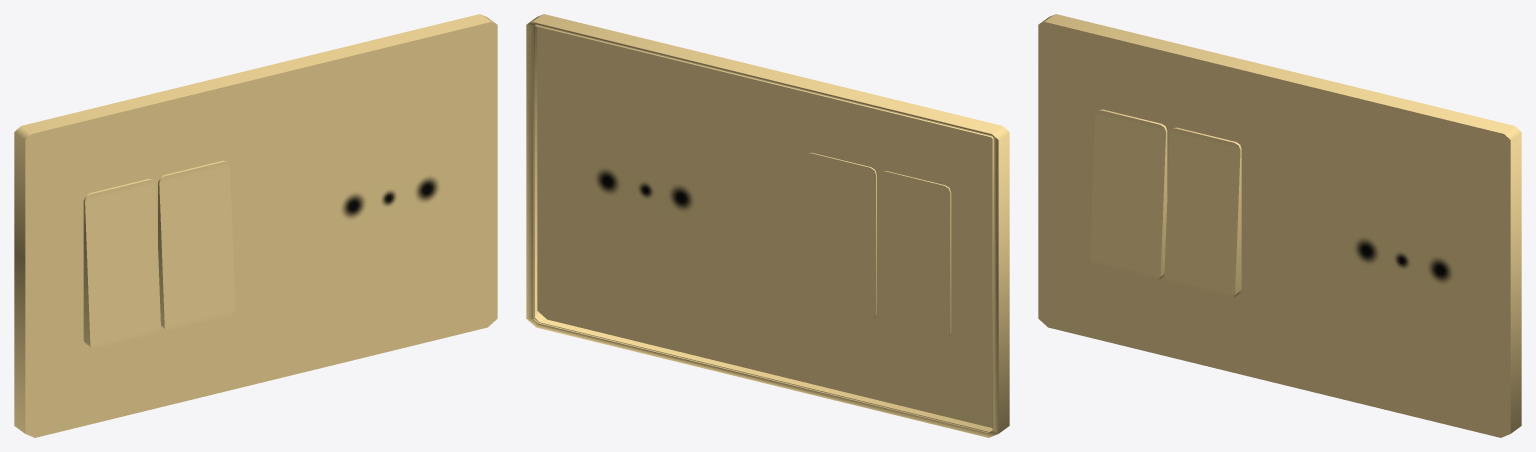
Rendered from BtR_Switch.fbx.
The picture shows the model from 3 angles, left to right: view 1: azimuth 30°, elevation 25°; view 2: azimuth 150°, elevation 25°; view 3: azimuth 330°, elevation 25°; orthographic projection.
Parts seen in each view (by area): view 1: Switch; view 2: Switch; view 3: Switch.
Part boxes in pixels (x1,y1,x2,y2): Switch: (14, 14, 497, 437); Switch: (526, 14, 1009, 437); Switch: (1038, 14, 1521, 437).
Bounding box in the file's own units: 0.1477 × 0.091 × 0.00957.
